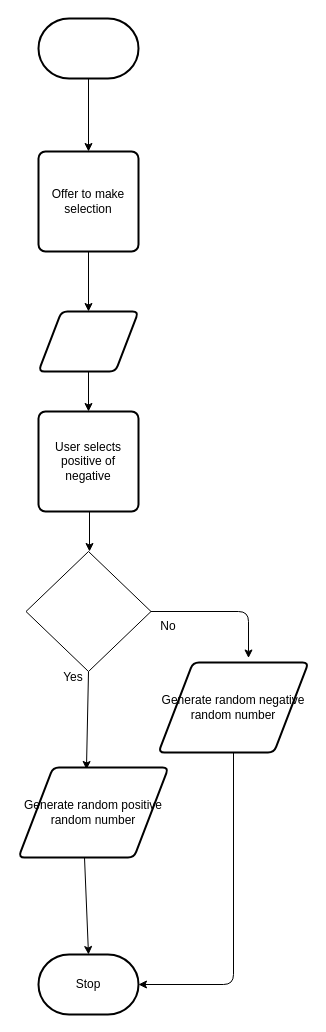
The diagram is 326 pixels wide and 1032 high, and some of its shapes have lost their labels. The shapes that lost their labels are listed below. From the top down, each one's box as (x1, y1, x2, y2) in pixels, then its label:
(37, 17, 139, 79): Start
(37, 310, 139, 372): Input
(25, 550, 151, 672): if buttonPositiveChecked == true
